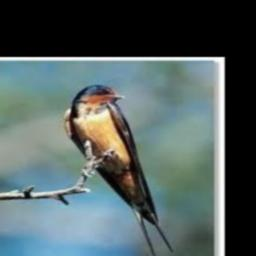Swallow: (64, 84, 174, 255)
